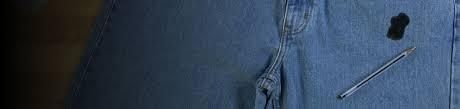ink: (387, 14, 409, 41)
